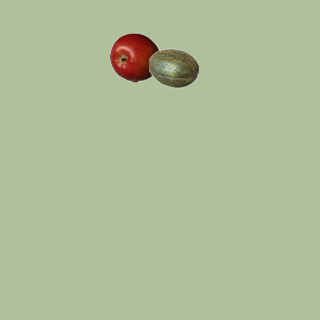Apple Braeburn: (109, 32, 159, 82)
Melon Piel de Sapo: (148, 43, 198, 93)
